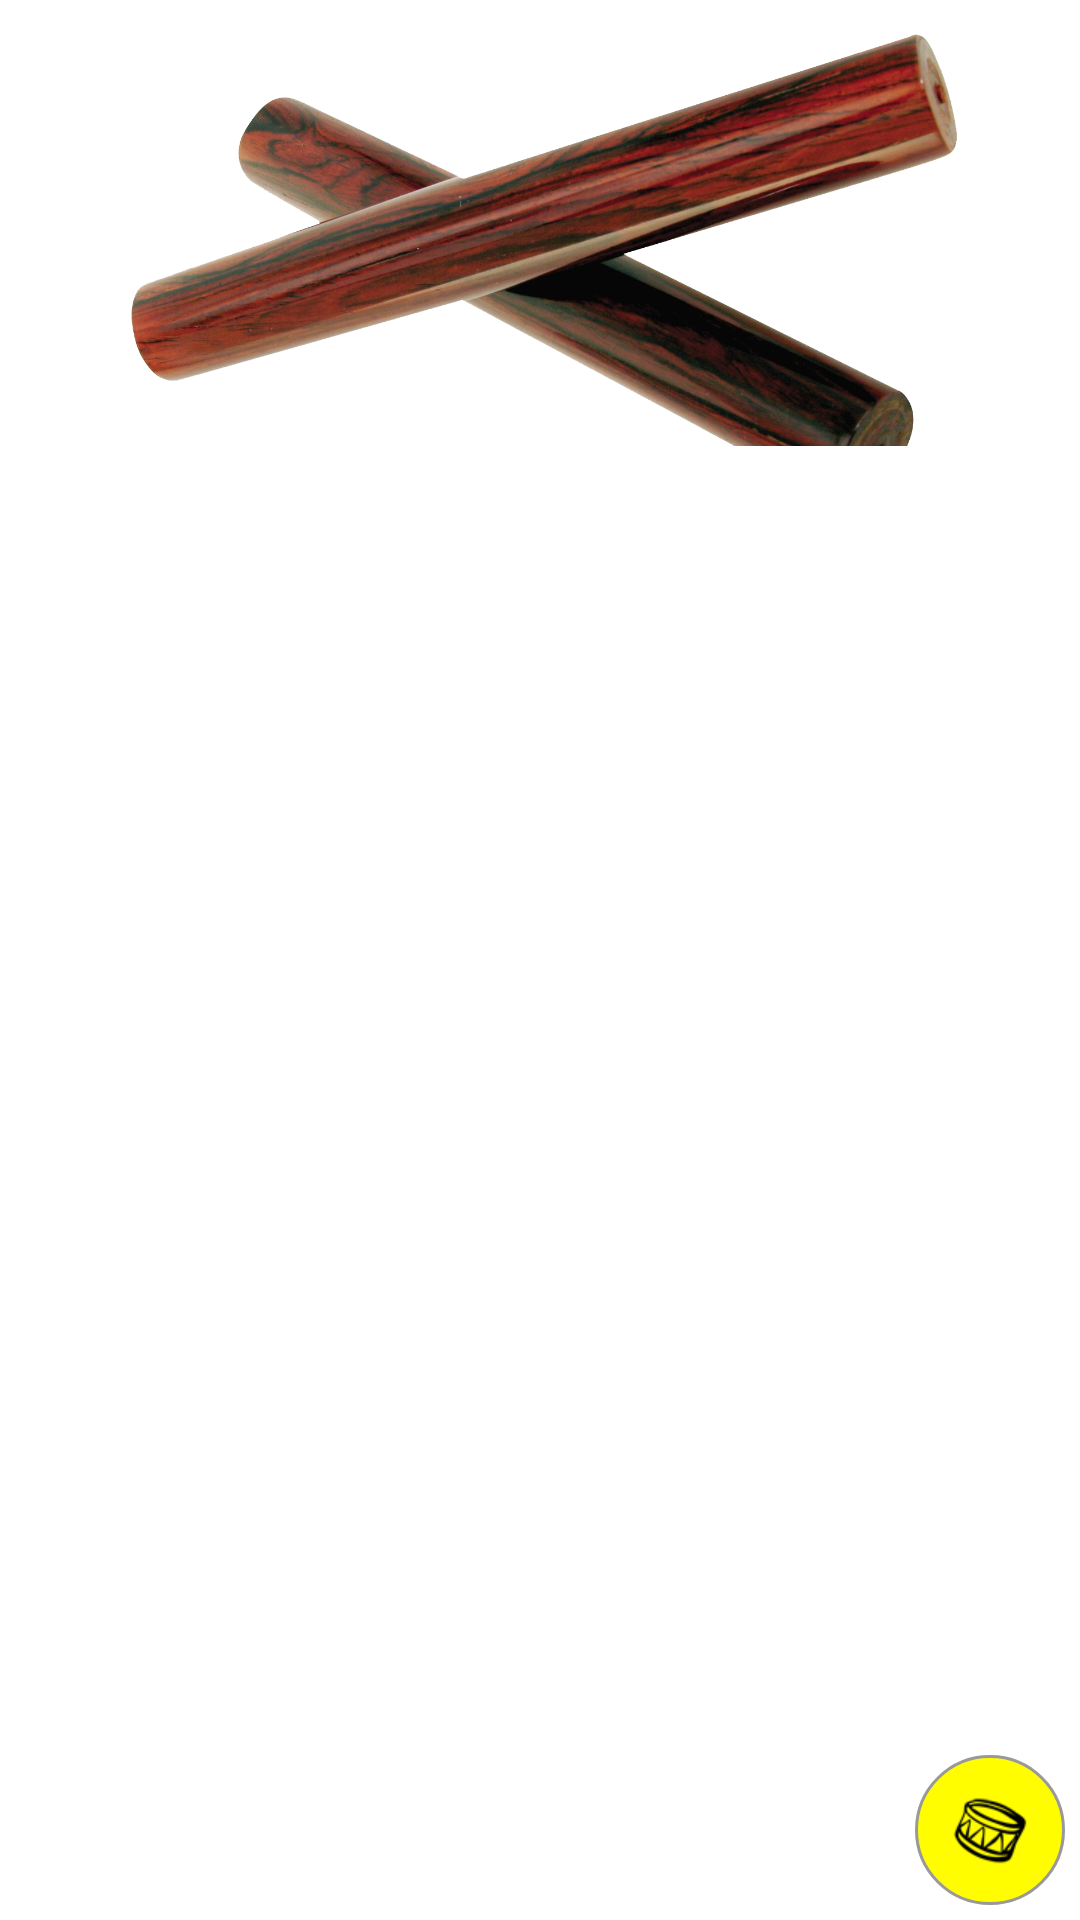

Named icons in this screenshot (1080px×1920px) and their centers, (x=x, y=y):
hover instrument: (x=990, y=1830)
